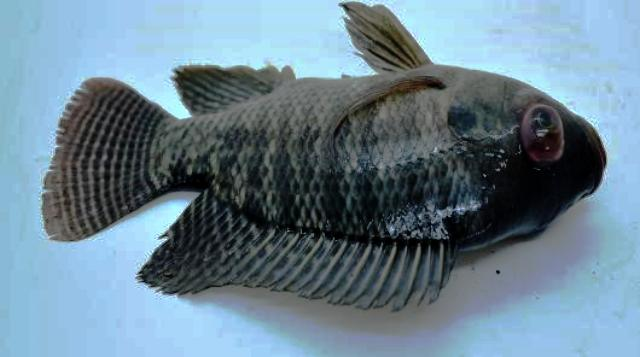Streptococcus: (42, 2, 605, 309)
